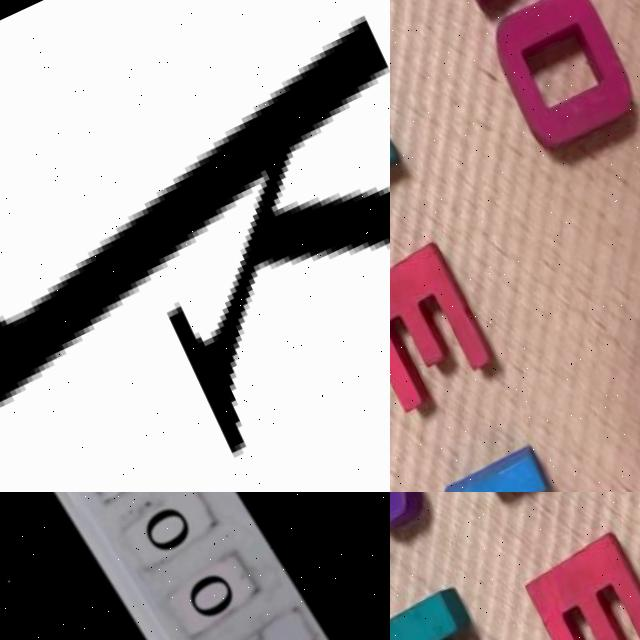0: (148, 540, 266, 640), (100, 492, 225, 585), (193, 610, 308, 640)
9: (54, 492, 183, 520)
E: (390, 250, 499, 424), (524, 540, 640, 640)
K: (0, 2, 390, 492), (390, 588, 510, 640)
O: (485, 0, 640, 158)
